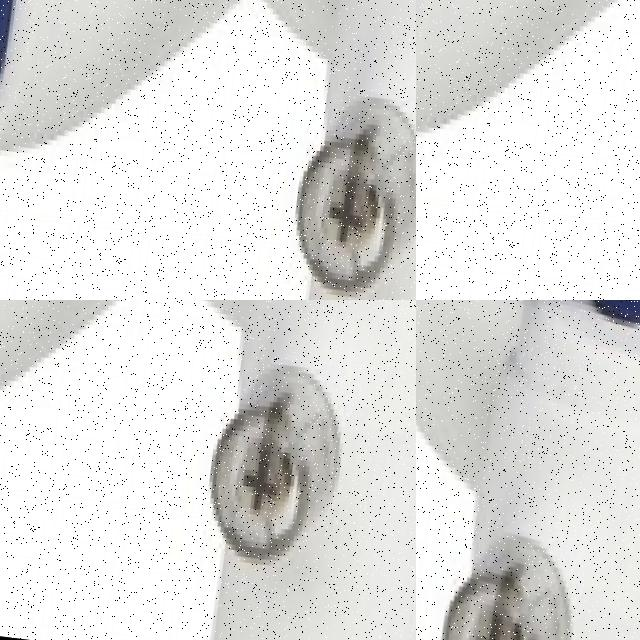drone: (416, 300, 640, 640)
